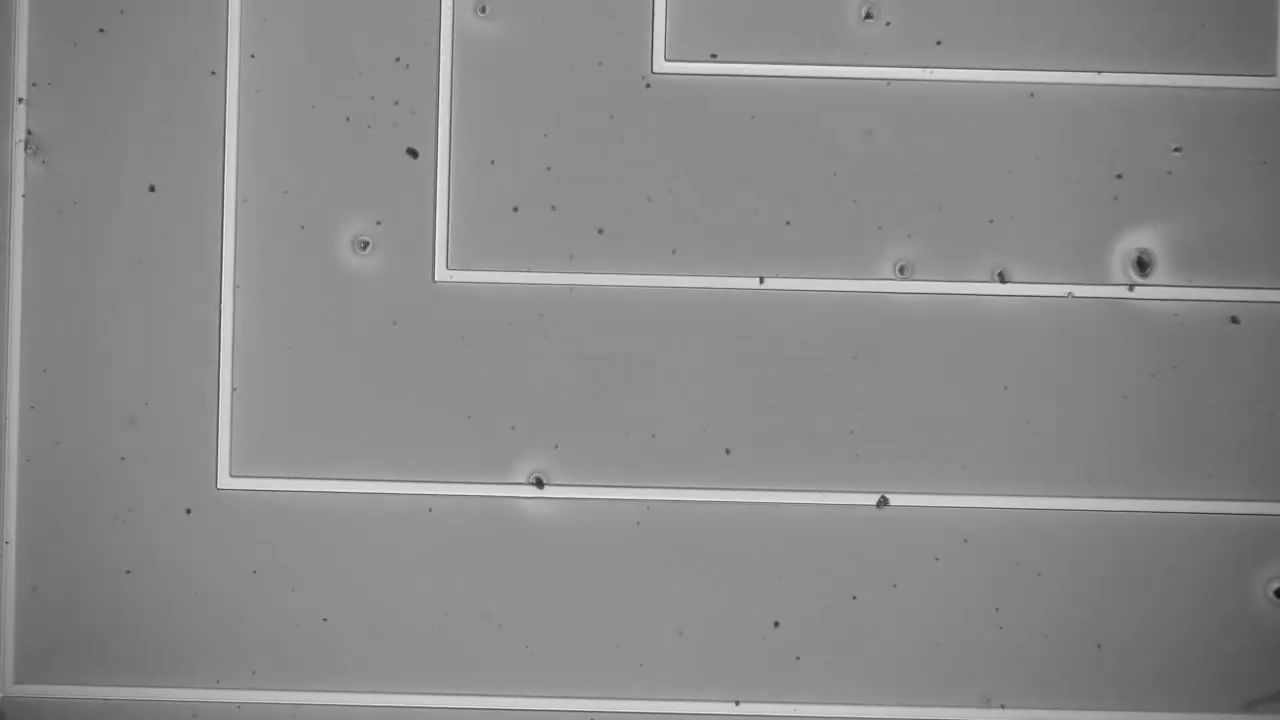edge_bite: (1062, 280, 1077, 303)
stains_enbedded: (525, 471, 553, 507), (867, 485, 896, 516), (1121, 280, 1144, 306), (753, 269, 769, 296)
